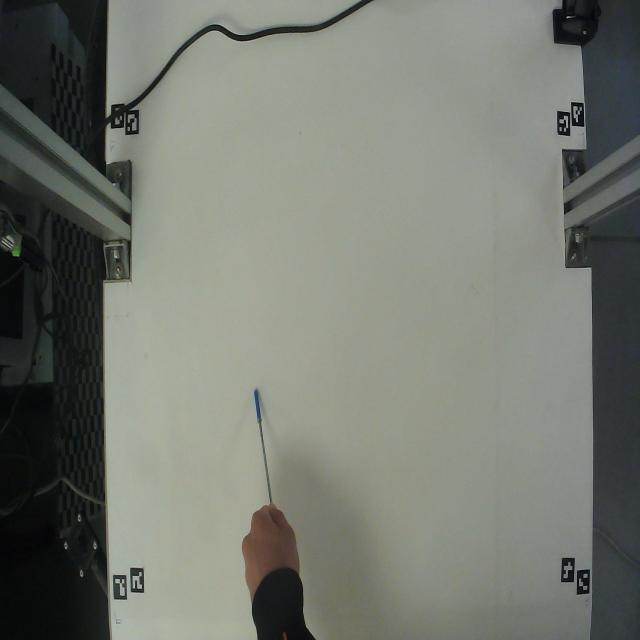Pres: (237, 380, 280, 513)
